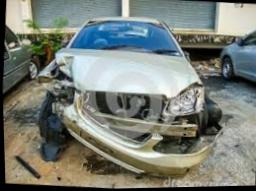Bonnet: (52, 47, 204, 101)
Bumper: (52, 101, 226, 178)
Light: (44, 65, 73, 103)
